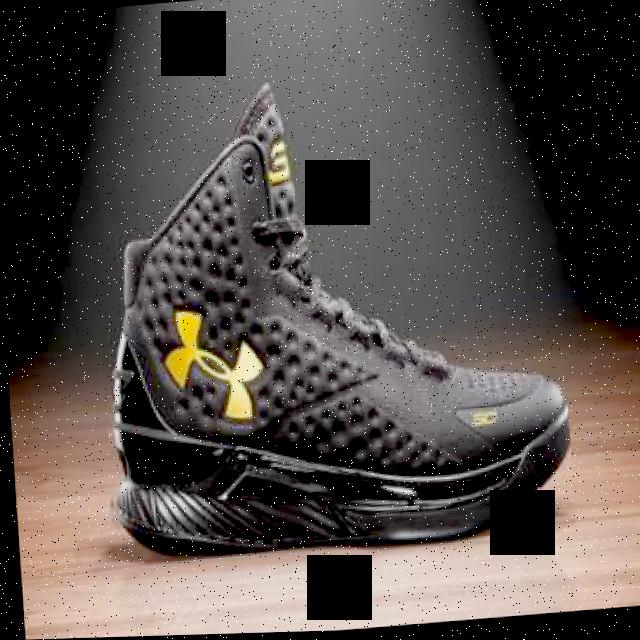shoe: (78, 57, 575, 574)
